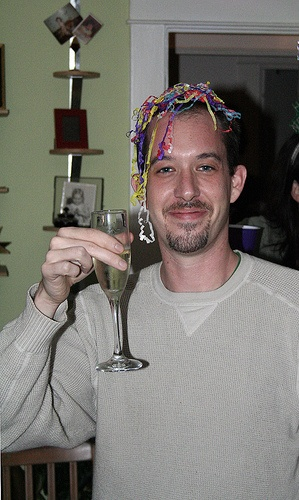head: (132, 87, 249, 257)
person: (18, 86, 299, 500)
